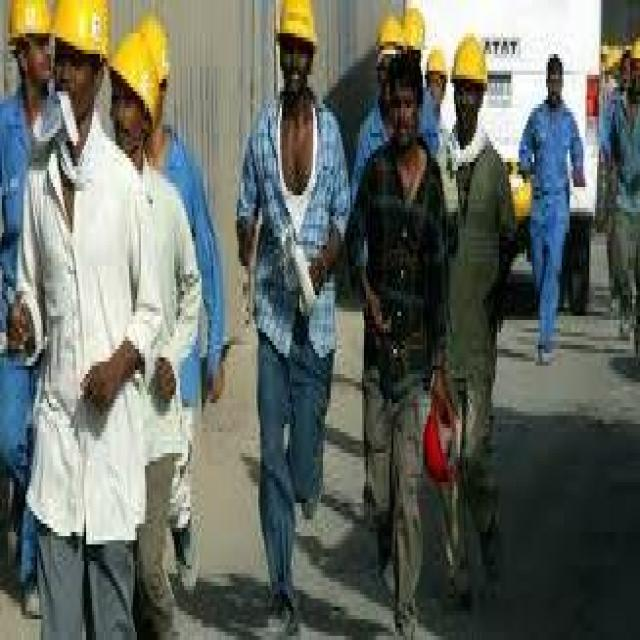Safety-Helmet: (106, 8, 176, 133), (14, 0, 116, 71), (369, 0, 430, 66), (450, 20, 495, 96), (270, 0, 323, 58), (425, 34, 450, 88), (628, 29, 640, 71)
